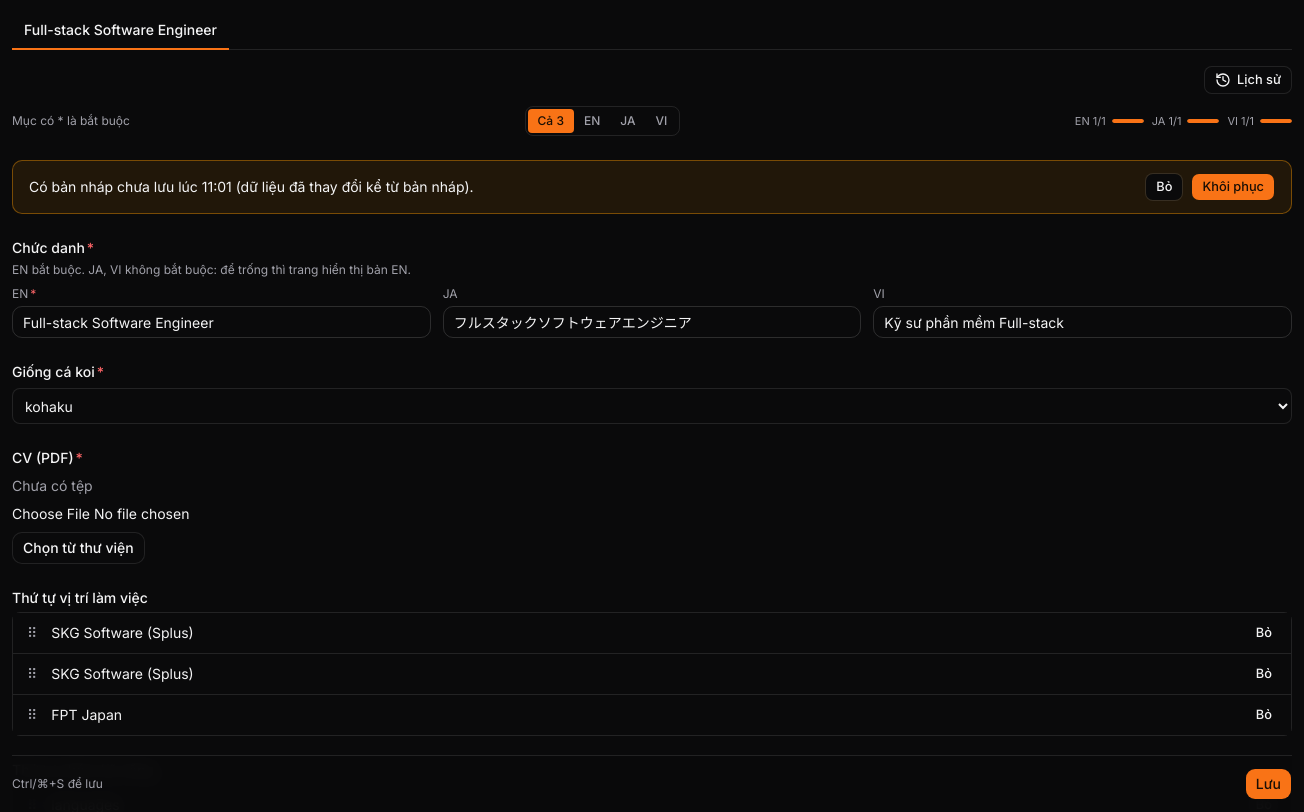
Scenario: roles page › marks the CV as required and explains a missing one on the upload itself
Check: the text "CV (PDF)" shows "*", box [76, 449, 83, 466]
Click the button "Lưu": [1268, 784] box [1245, 768, 1292, 800]
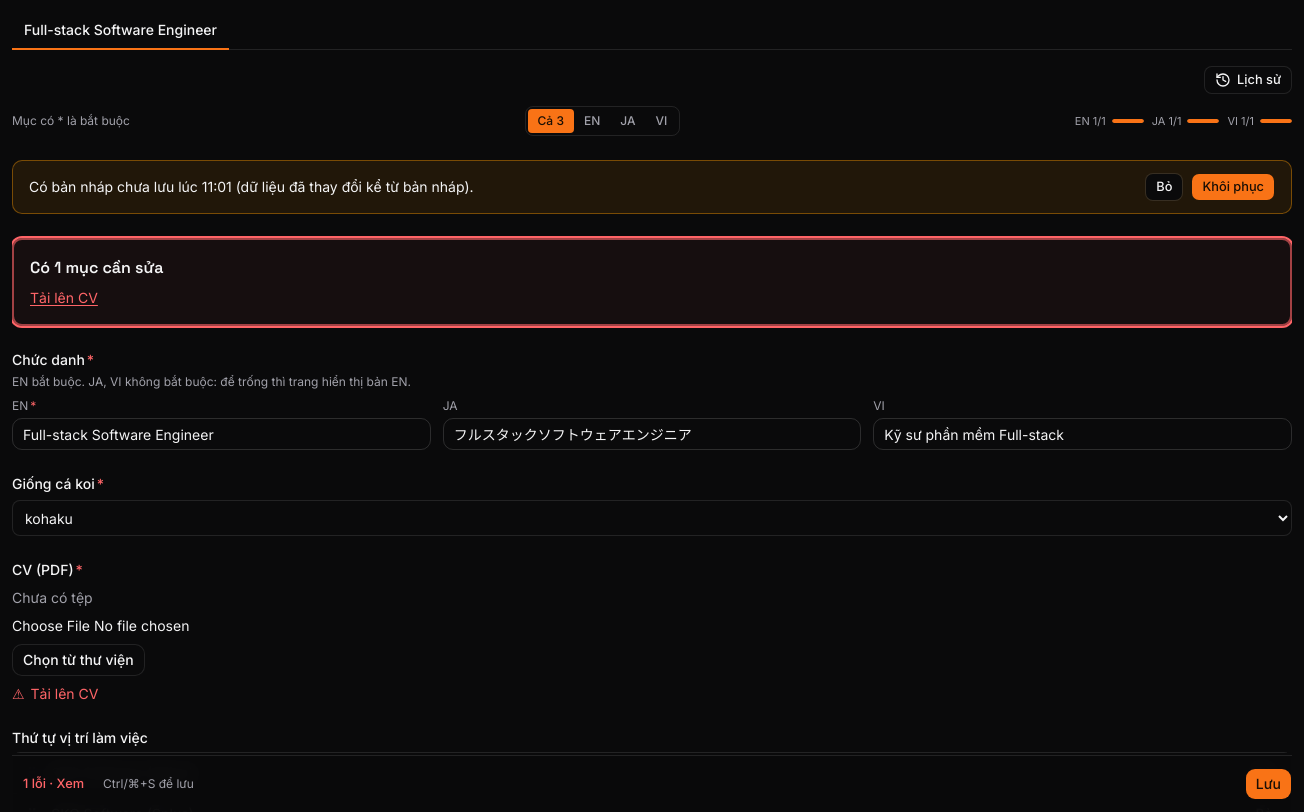
Check: the file field labelled "CV (PDF)*" is shown, box [12, 616, 1292, 636]
Check: the link "Tải lên CV" is shown, box [30, 289, 98, 306]
